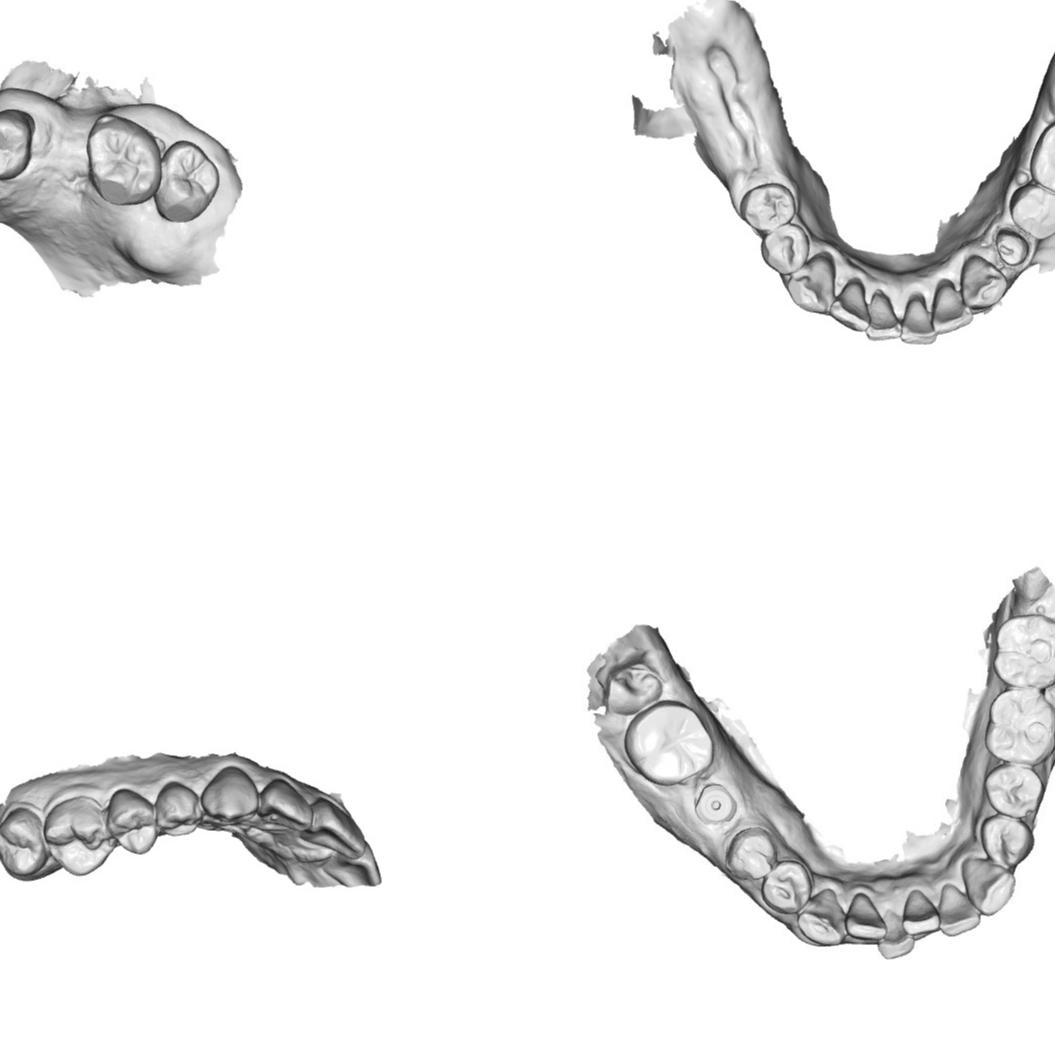canine: (199, 763, 263, 826), (785, 249, 838, 316), (962, 855, 1016, 917), (958, 252, 1009, 313), (800, 893, 848, 943)
crown: (992, 226, 1034, 270)
implant: (693, 782, 737, 825)
incisor: (298, 795, 367, 861), (253, 776, 316, 835), (927, 281, 975, 337), (828, 275, 872, 334), (935, 884, 981, 933), (864, 291, 905, 343), (898, 297, 939, 347), (845, 890, 885, 938), (902, 892, 940, 937), (880, 915, 912, 956)
molar: (622, 701, 716, 787), (80, 112, 159, 206), (42, 793, 110, 878), (150, 140, 220, 220), (988, 690, 1055, 761), (991, 616, 1055, 690), (0, 805, 51, 880), (1028, 118, 1055, 200)
premolar: (105, 785, 161, 856), (736, 180, 801, 233), (985, 761, 1043, 817), (152, 776, 203, 839), (758, 220, 812, 278), (1008, 181, 1055, 241), (978, 814, 1032, 866), (0, 102, 32, 183), (727, 827, 776, 879), (763, 865, 808, 910)
